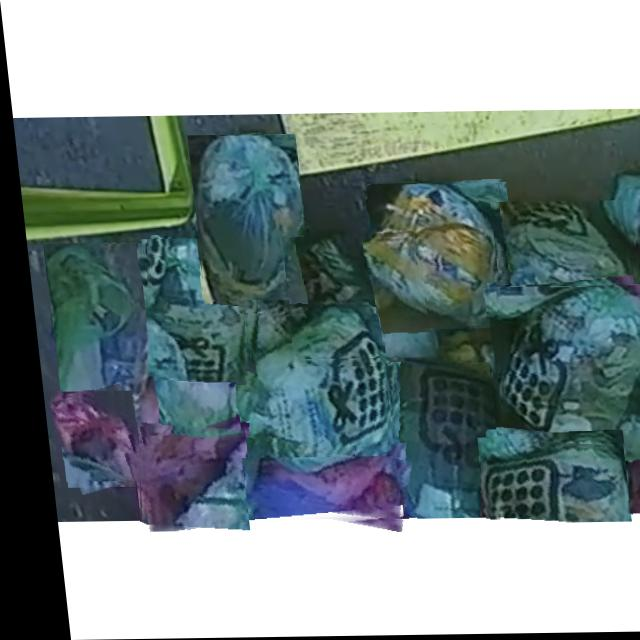general_trashbag: (218, 315, 381, 476), (493, 287, 640, 462), (41, 244, 148, 435), (367, 185, 507, 325), (486, 203, 631, 326), (282, 237, 428, 358), (191, 137, 299, 298), (381, 363, 486, 519), (142, 240, 238, 382), (470, 444, 618, 524), (150, 362, 226, 459)
other_trashbag: (128, 430, 235, 531), (236, 457, 390, 521), (43, 396, 140, 481), (616, 447, 640, 515)
